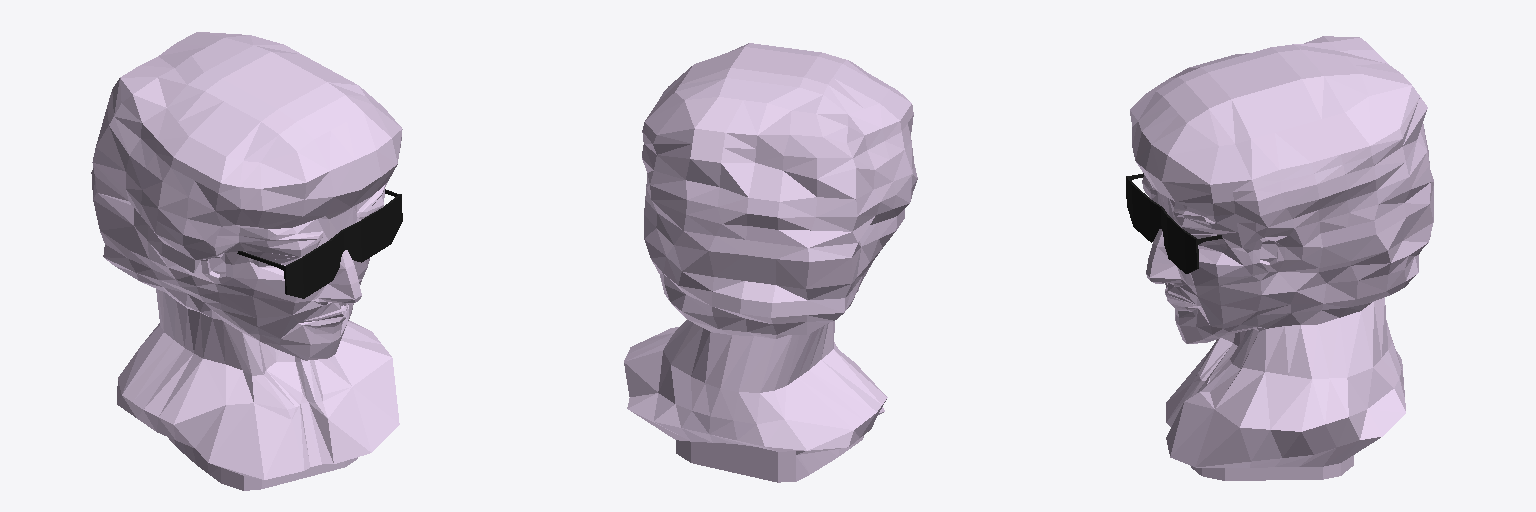
3 views of the same model, side by side, from view 1: azimuth 30°, elevation 25°; view 2: azimuth 150°, elevation 25°; view 3: azimuth 270°, elevation 25° (orthographic).
Visible parts, largest first — view 1: 立方體, 立方體.001; view 2: 立方體; view 3: 立方體, 立方體.001.
Part boxes in pixels (x1,y1,x2,y2): 立方體: (91, 32, 402, 490); 立方體.001: (237, 189, 402, 298); 立方體: (624, 43, 917, 482); 立方體: (1130, 36, 1433, 480); 立方體.001: (1126, 173, 1222, 273).
Bounding box in the file's own units: 1.58 × 2.27 × 1.67.
1 materials, 1 textured.